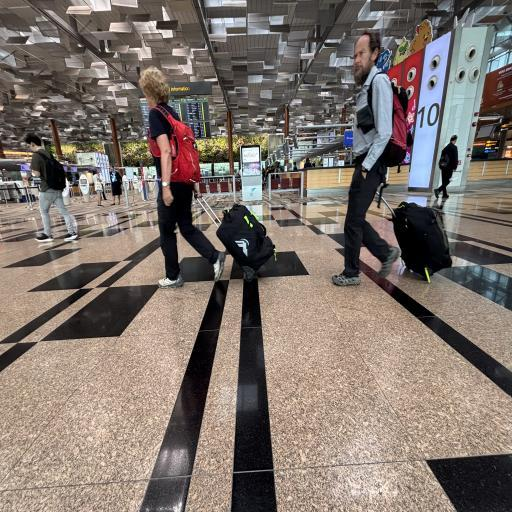person_with_luggage_left: (326, 24, 458, 298), (131, 55, 278, 300)
